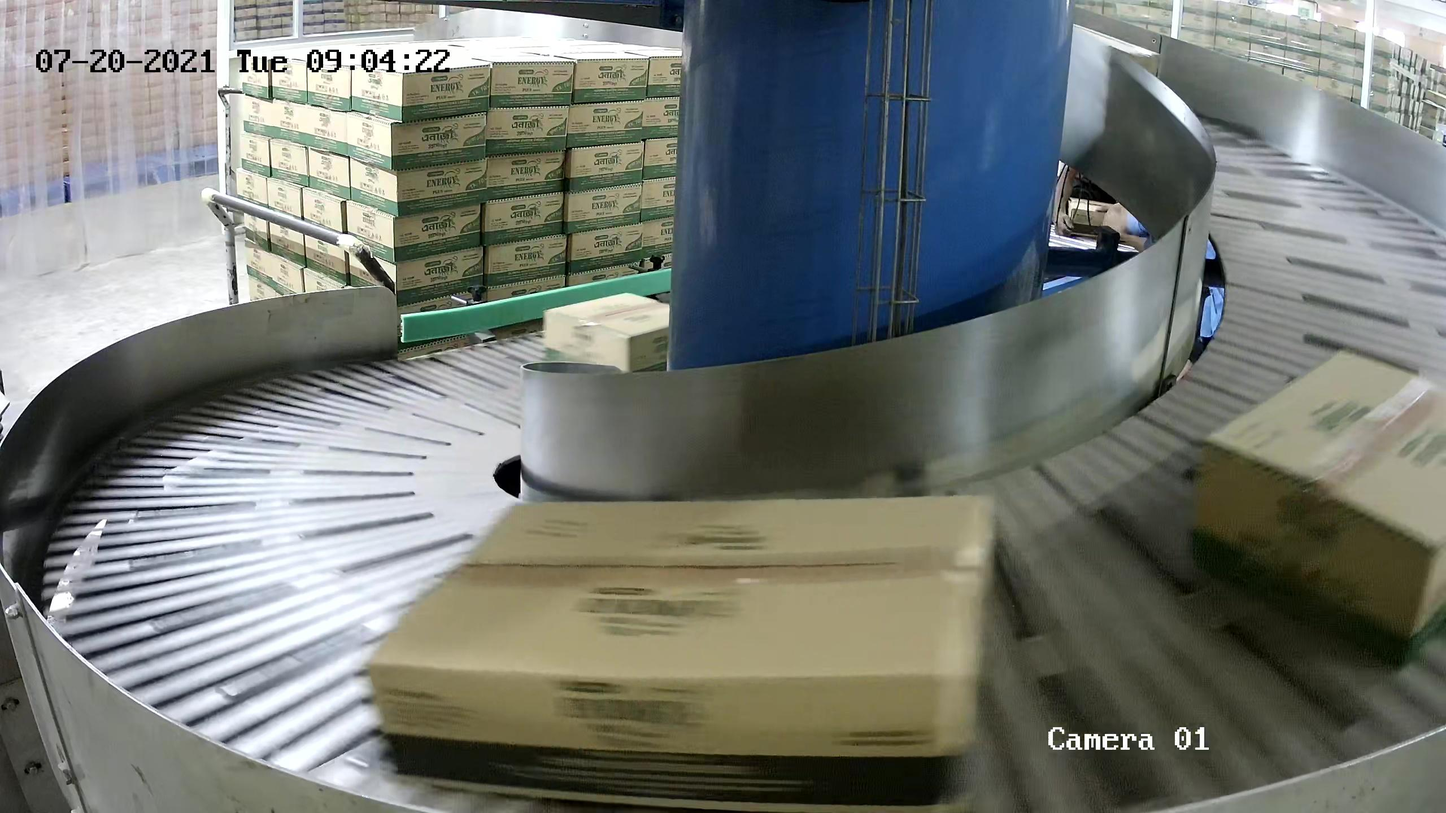Box: (360, 486, 1002, 811), (1190, 341, 1446, 674), (542, 291, 670, 373)
